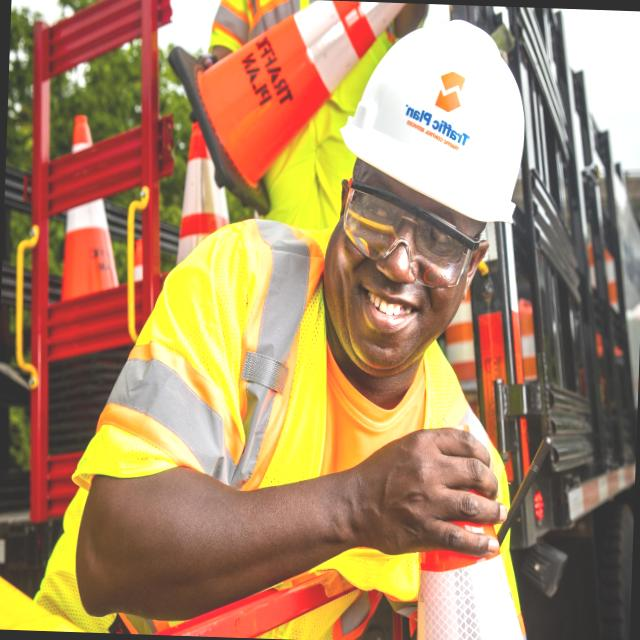helmet: (331, 9, 535, 232)
vest: (28, 304, 478, 612)
